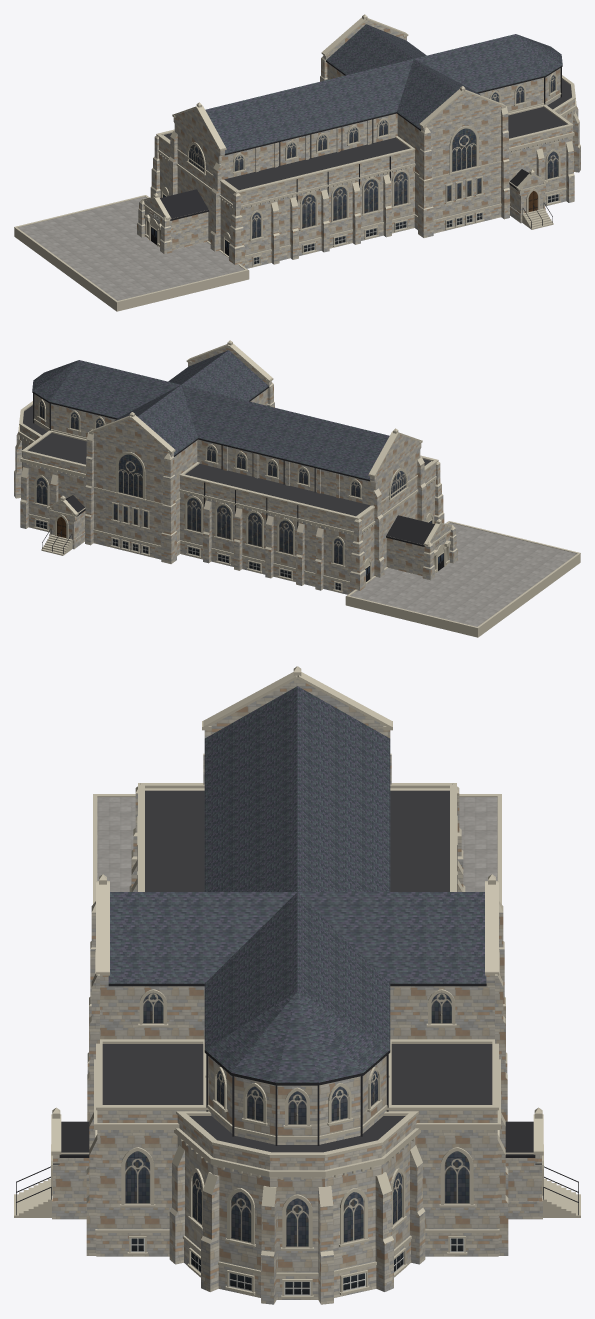
File: vcc.glb
3 renders of one model, top to bottom at view 1: azimuth 30°, elevation 25°; view 2: azimuth 150°, elevation 25°; view 3: azimuth 270°, elevation 25°, orthographic. The views are drawn at different scales.
Parts seen in each view (by area): view 1: VCC_Building, VCC_FrontPlaza; view 2: VCC_Building, VCC_FrontPlaza; view 3: VCC_Building, VCC_FrontPlaza.
Part boxes in pixels (left/top/right/bottom): VCC_Building: left=137, top=14, right=580, bottom=268; VCC_FrontPlaza: left=14, top=195, right=249, bottom=311; VCC_Building: left=14, top=340, right=457, bottom=594; VCC_FrontPlaza: left=345, top=521, right=580, bottom=637; VCC_Building: left=14, top=666, right=580, bottom=1304; VCC_FrontPlaza: left=93, top=794, right=501, bottom=903.
Size of the model in its own units: 79.92 by 20.97 by 38.95.
8 materials, 4 textured.
